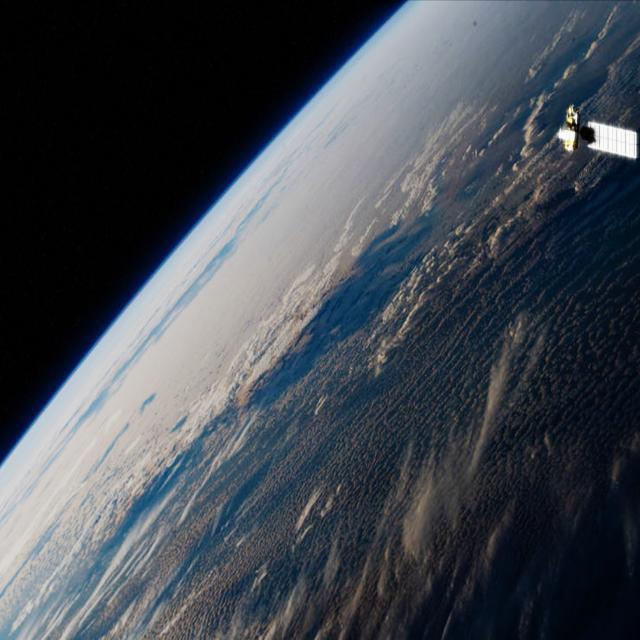satellite: (541, 97, 640, 186)
